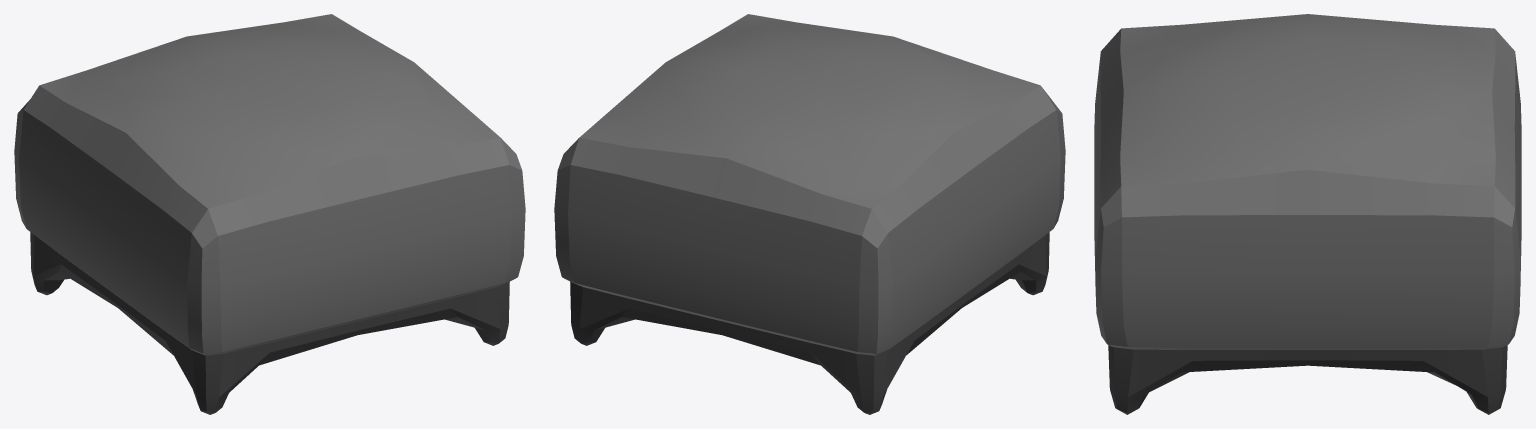
File: Waiting Chair.fbx
3 views of the same model, side by side, from view 1: azimuth 30°, elevation 25°; view 2: azimuth 150°, elevation 25°; view 3: azimuth 270°, elevation 25° (orthographic). The views are drawn at different scales.
Visible parts, largest first — view 1: Waiting Chair; view 2: Waiting Chair; view 3: Waiting Chair.
Boxes of the visible parts, x1=… form: Waiting Chair: x1=14, y1=14, x2=525, y2=414; Waiting Chair: x1=554, y1=14, x2=1065, y2=414; Waiting Chair: x1=1094, y1=14, x2=1521, y2=414.
Size of the model in its own units: 230 by 158 by 230.
